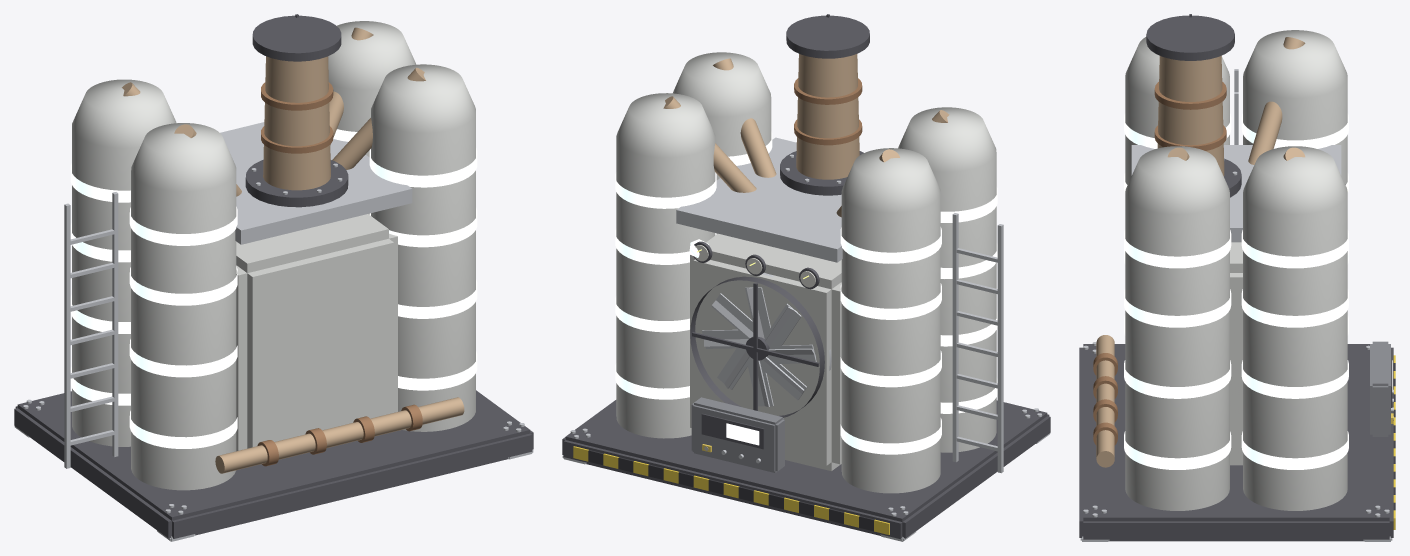
File: decon_2.fbx
The picture shows the model from 3 angles, left to right: view 1: azimuth 30°, elevation 25°; view 2: azimuth 150°, elevation 25°; view 3: azimuth 270°, elevation 25°; orthographic projection. The views are drawn at different scales.
Visible parts, largest first — view 1: decon_2; view 2: decon_2, Spin_Z_Fan; view 3: decon_2.
Boxes of the visible parts, x1,y1,x2,y2 form: decon_2: (14, 15, 533, 541); decon_2: (562, 15, 1050, 541); Spin_Z_Fan: (702, 287, 816, 406); decon_2: (1079, 15, 1395, 541).
Bounding box in the file's own units: 3.43 × 3.71 × 2.42.
